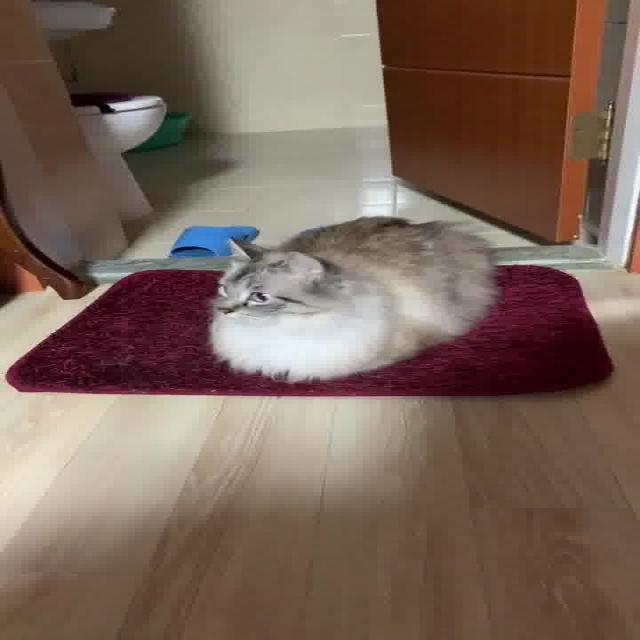cat: (205, 213, 502, 391)
